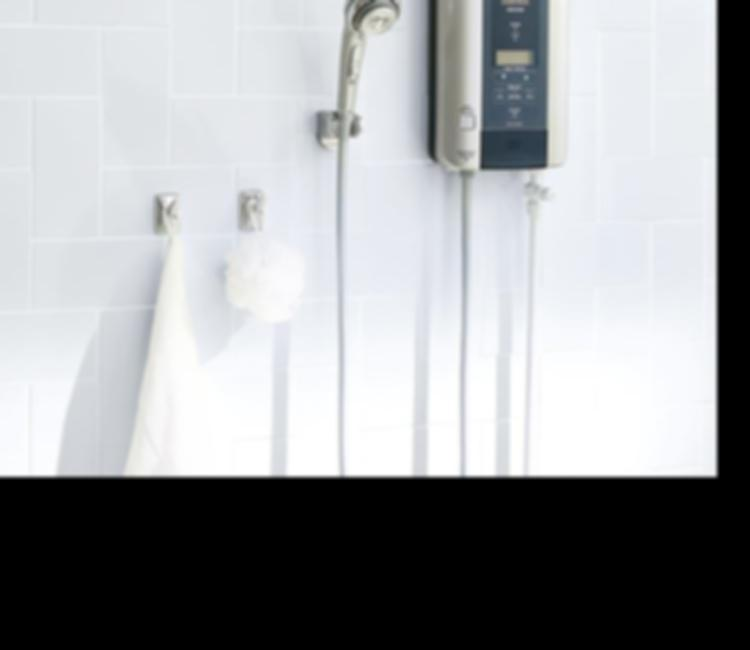Ducha: (0, 0, 716, 476)
